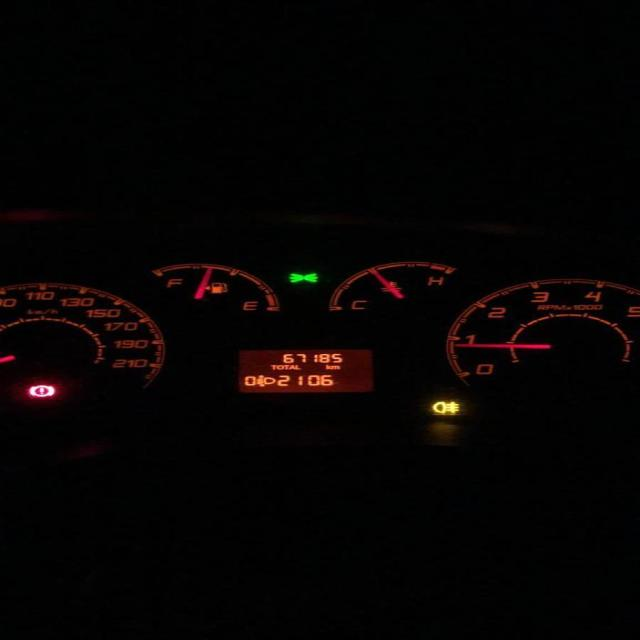odometer: (236, 348, 373, 393)
